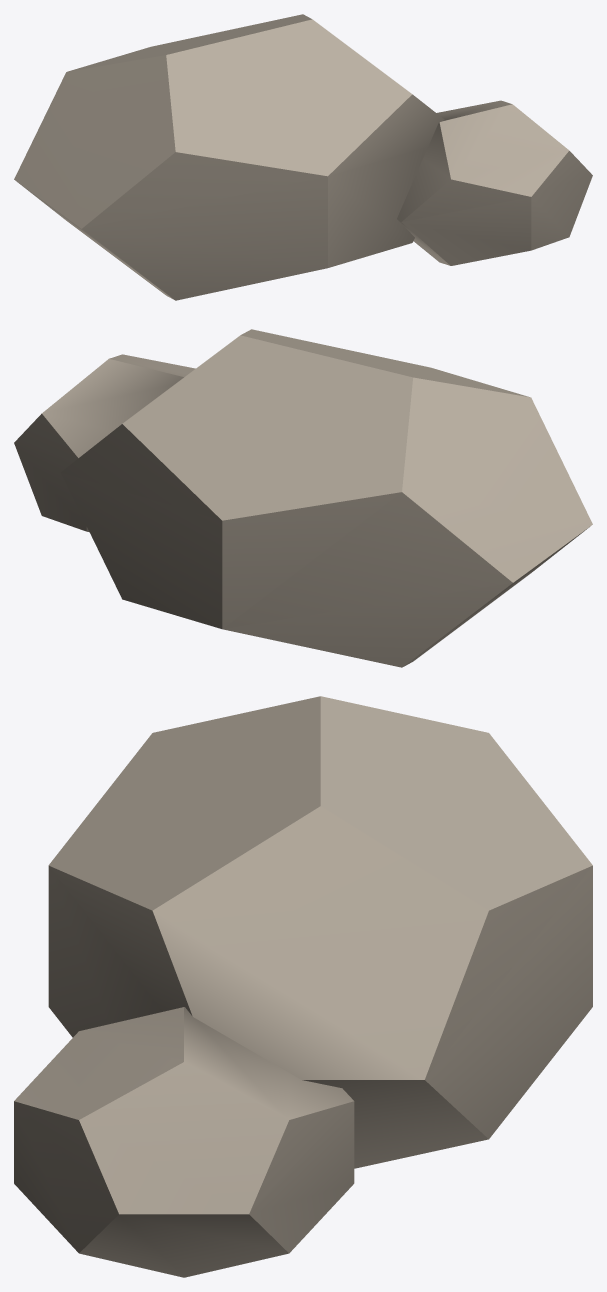
Rendered from rock.glb.
3 views of the same model, one above another, from view 1: azimuth 30°, elevation 25°; view 2: azimuth 150°, elevation 25°; view 3: azimuth 270°, elevation 25° (orthographic). The views are drawn at different scales.
Parts seen in each view (by area): view 1: rock_rock; view 2: rock_rock; view 3: rock_rock.
Part boxes in pixels (x1,y1,x2,y2): rock_rock: [14, 14, 592, 300]; rock_rock: [14, 329, 592, 667]; rock_rock: [14, 696, 592, 1277].
Bounding box in the file's own units: 0.3742 × 0.1794 × 0.2543.
